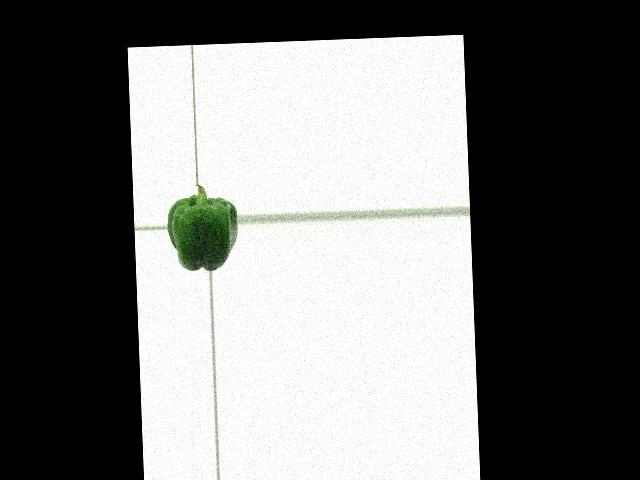bell_pepper: (166, 184, 238, 273)
